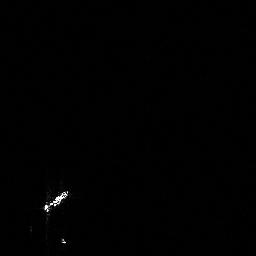ship: (39, 187, 71, 216)
